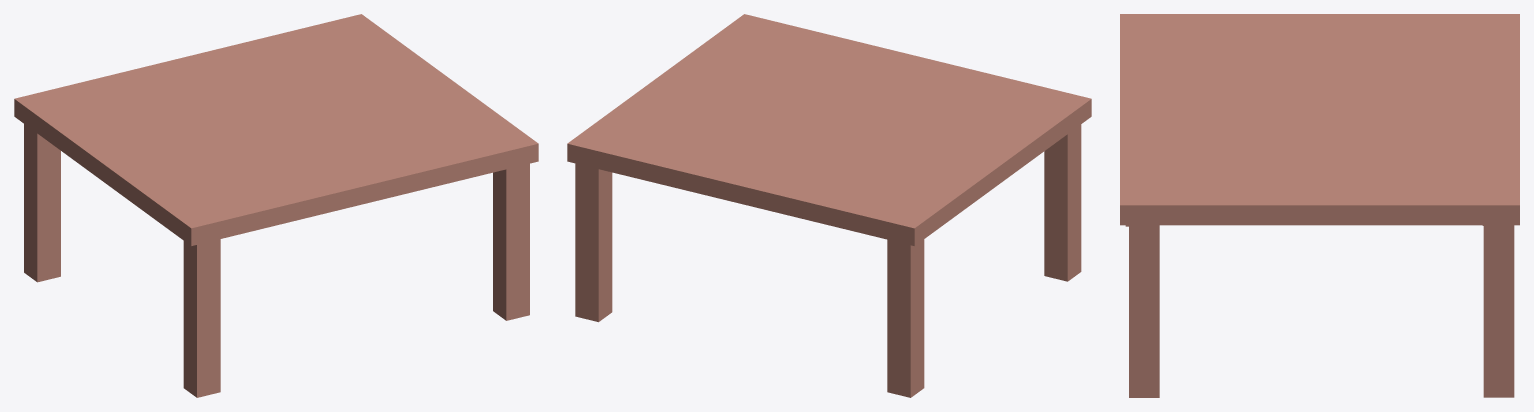
Rendered from library table.fbx.
The picture shows the model from 3 angles, left to right: view 1: azimuth 30°, elevation 25°; view 2: azimuth 150°, elevation 25°; view 3: azimuth 270°, elevation 25°; orthographic projection. The views are drawn at different scales.
Visible parts, largest first — view 1: Plane.008, Cube.013, Cube.012, Cube.011; view 2: Plane.008, Cube.011, Cube.010, Cube.013; view 3: Plane.008, Cube.010, Cube.012.
Part boxes in pixels (x1,y1,x2,y2): Plane.008: [14, 14, 538, 245]; Cube.013: [183, 239, 220, 397]; Cube.012: [493, 163, 529, 320]; Cube.011: [24, 124, 60, 282]; Plane.008: [567, 14, 1091, 245]; Cube.011: [887, 239, 924, 397]; Cube.010: [575, 163, 612, 322]; Cube.013: [1044, 124, 1081, 281]; Plane.008: [1120, 14, 1519, 225]; Cube.010: [1483, 225, 1514, 397]; Cube.012: [1129, 225, 1159, 397].
Bounding box in the file's own units: 150 × 71.51 × 133.
